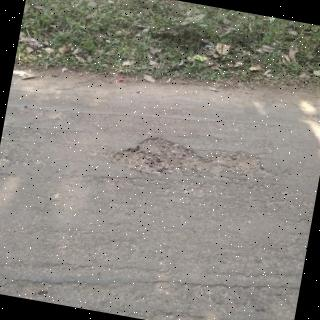pothole: (109, 137, 276, 180)
